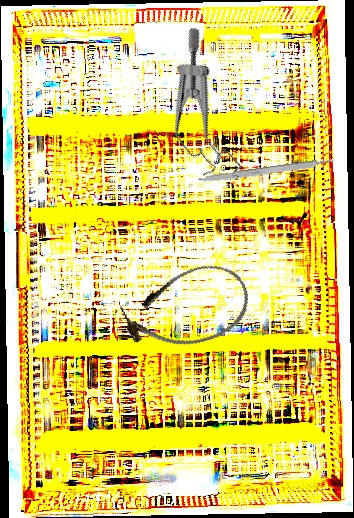Cannula: (115, 255, 258, 362)
Scalpel Handle: (198, 157, 335, 186)
Speculum: (126, 24, 286, 196)
